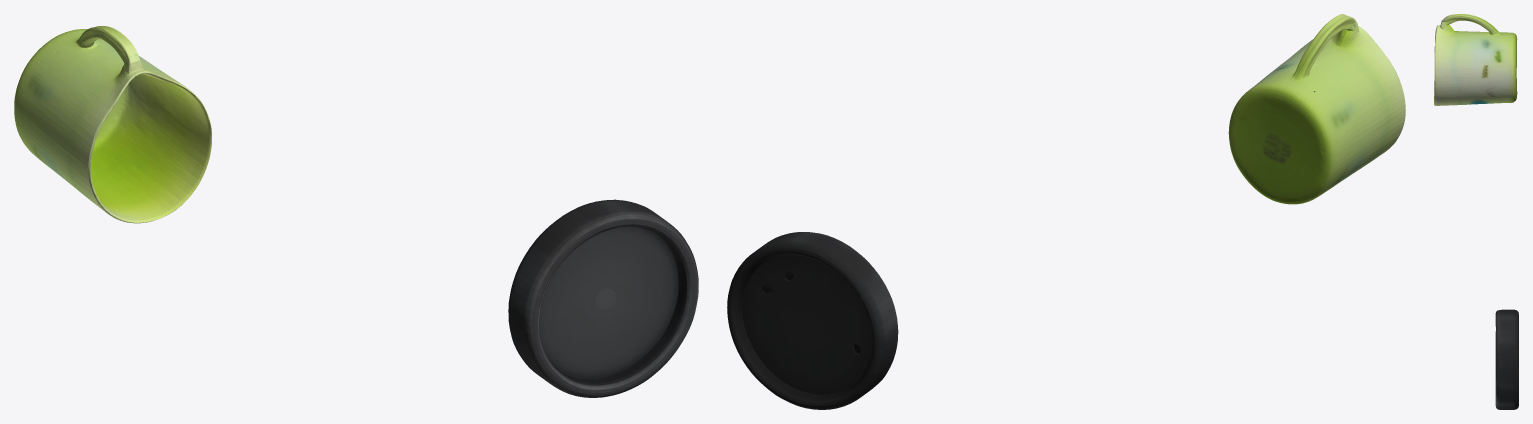
3 views of the same model, side by side, from view 1: azimuth 30°, elevation 25°; view 2: azimuth 150°, elevation 25°; view 3: azimuth 270°, elevation 25° (orthographic). The views are drawn at different scales.
Parts seen in each view (by area): view 1: image_0000_segmented_geometry_0, image_0001_segmented_geometry_0; view 2: image_0000_segmented_geometry_0, image_0001_segmented_geometry_0; view 3: image_0001_segmented_geometry_0, image_0000_segmented_geometry_0.
Part boxes in pixels (left/top/right/bottom): image_0000_segmented_geometry_0: left=508, top=199, right=698, bottom=397; image_0001_segmented_geometry_0: left=14, top=26, right=211, bottom=223; image_0000_segmented_geometry_0: left=727, top=232, right=898, bottom=409; image_0001_segmented_geometry_0: left=1228, top=14, right=1405, bottom=204; image_0001_segmented_geometry_0: left=1434, top=14, right=1517, bottom=105; image_0000_segmented_geometry_0: left=1495, top=309, right=1518, bottom=409.
Size of the model in its own units: 0.432 by 0.3193 by 0.0944.
2 materials, 2 textured.
